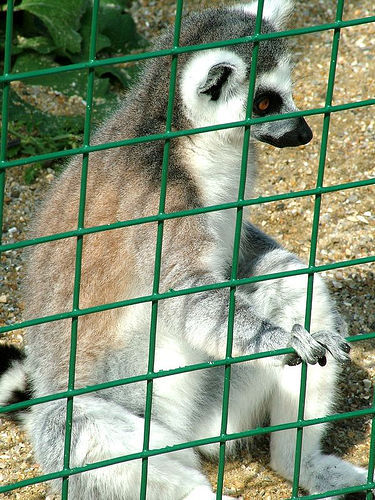cat: (0, 11, 373, 498)
